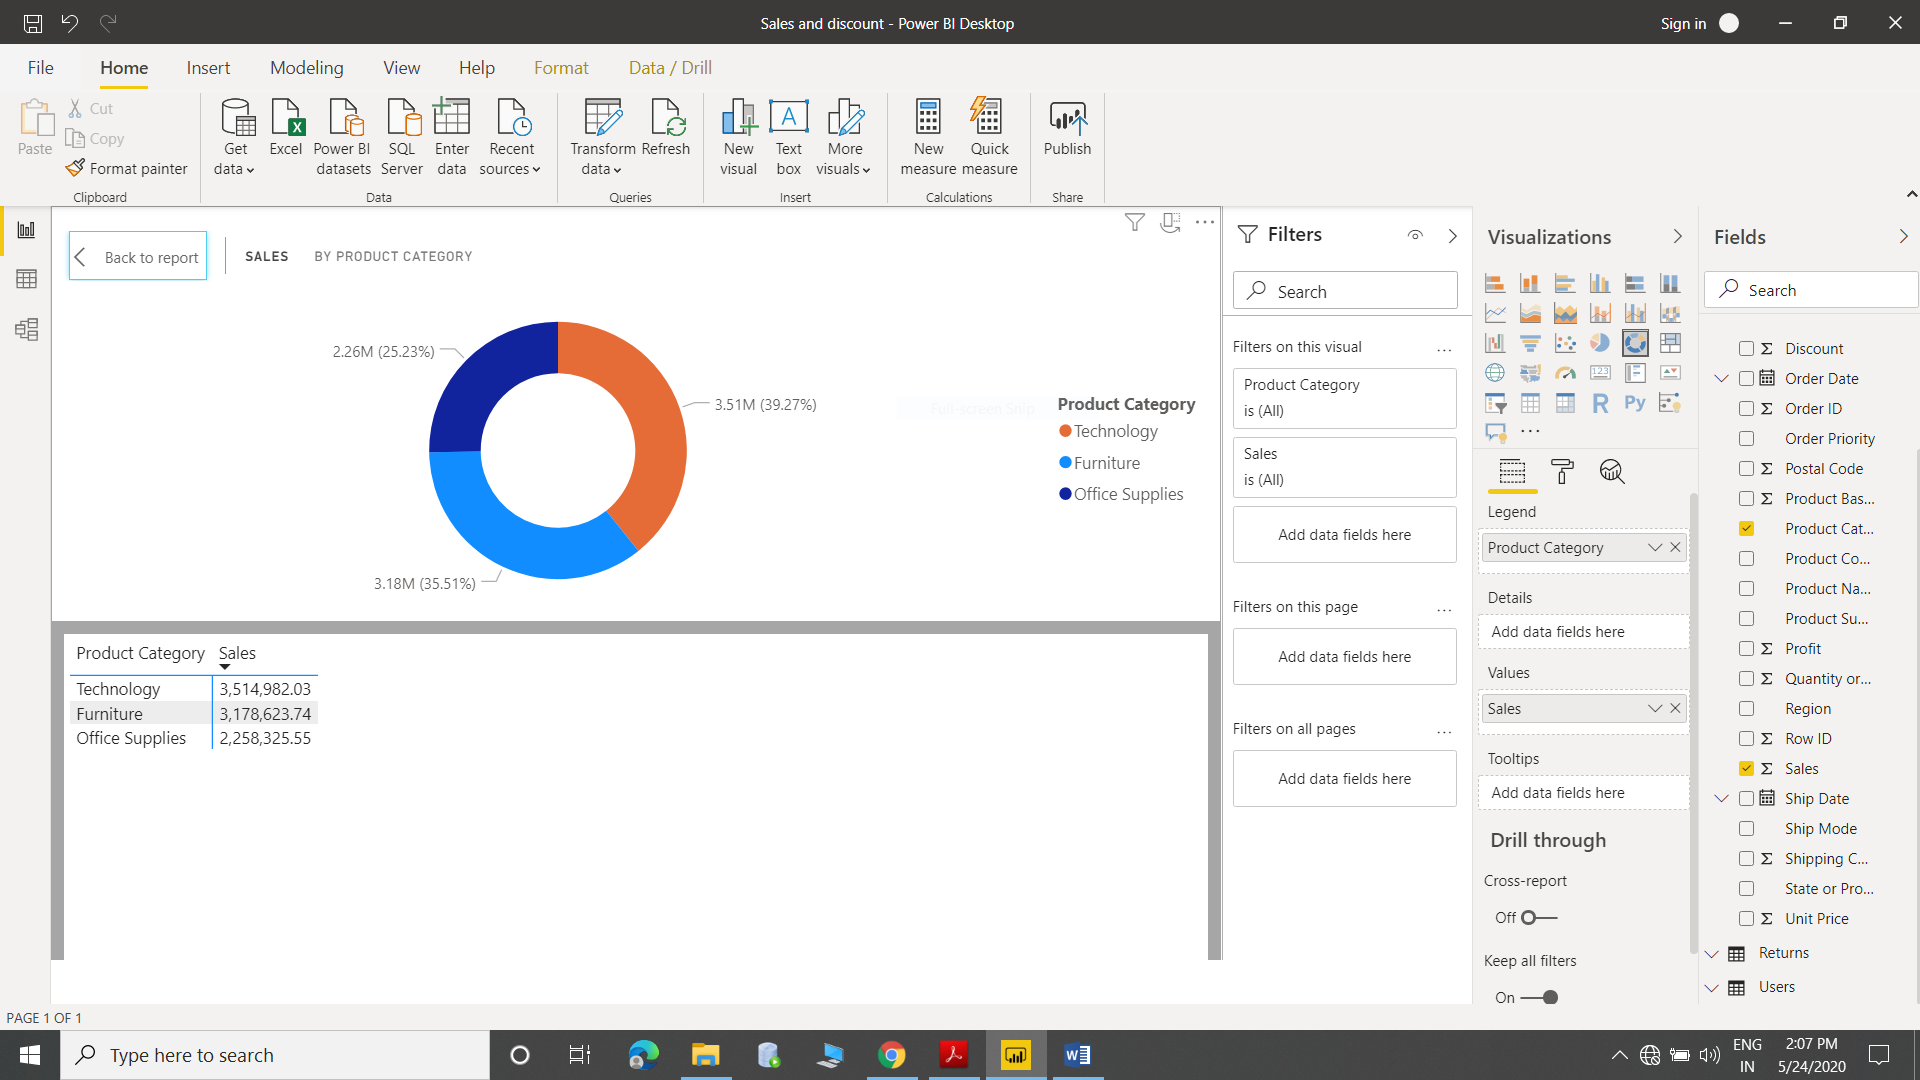

Layout of this report page (visuals, bound fields, positions):
{"tool":"powerbi","page":{"name":"Page 1","canvas":[1280,720],"ordinal":0},"visuals":[{"type":"donutChart","fields":{"Category":["Orders.Product Category"],"Y":["Sum(Orders.Sales)"]},"box":[0,359.7,867,361],"z":0},{"type":"lineClusteredColumnComboChart","fields":{"Category":["Orders.State or Province"],"Y2":["Sum(Orders.Discount)"],"Y":["Sum(Orders.Sales)"]},"box":[0,0,876.6,376.1],"z":1},{"type":"slicer","fields":{"Values":["Orders.Region"]},"box":[887.5,139.5,392.5,203.8],"z":2}]}

Visuals, with their boxes on the page's 1280x720 design canvas (x1, y1, x2, y2). These are canvas units, not pixel positions in the 1920x1080 screenshot, which may show the page scaled, cropped or inside an application window:
donutChart - Orders.Product Category x Sum(Orders.Sales): {"left": 0, "top": 360, "right": 867, "bottom": 721}
lineClusteredColumnComboChart - Orders.State or Province x Sum(Orders.Discount): {"left": 0, "top": 0, "right": 877, "bottom": 376}
slicer - Orders.Region: {"left": 888, "top": 140, "right": 1280, "bottom": 343}
